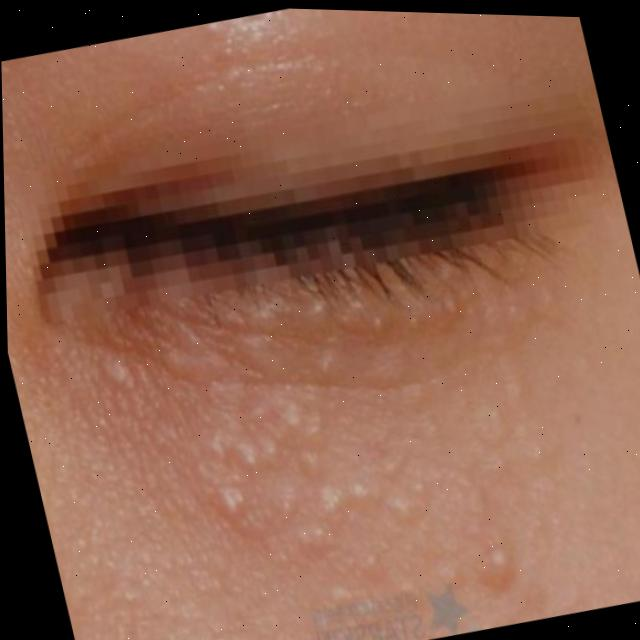Acne: (72, 243, 593, 640)
